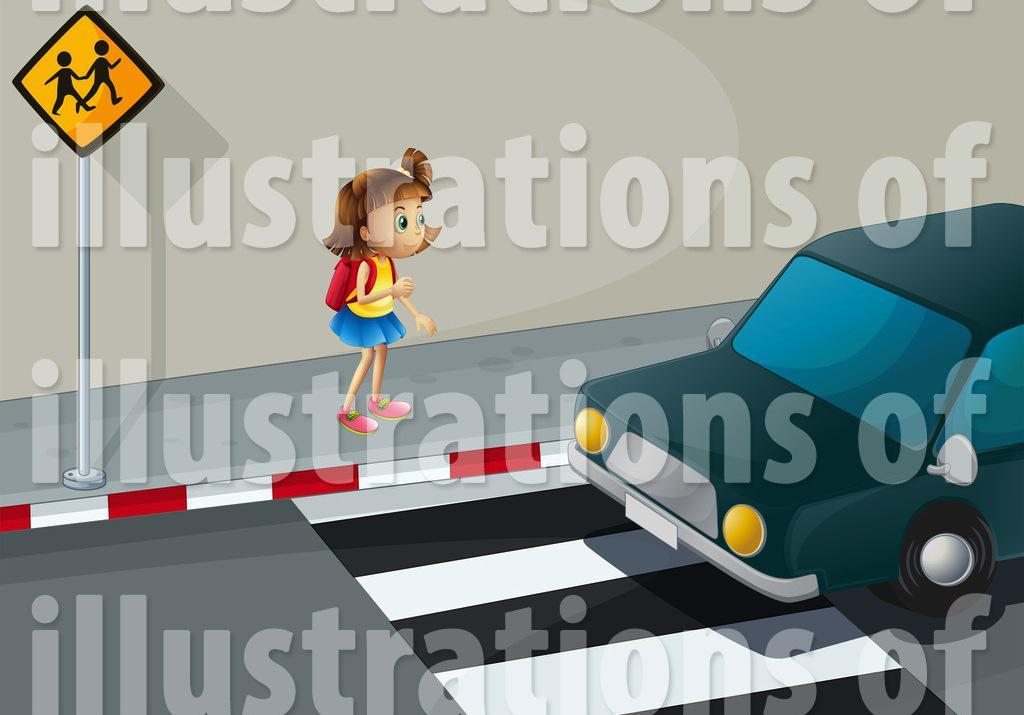car: (567, 204, 1021, 613)
person: (283, 133, 441, 431)
